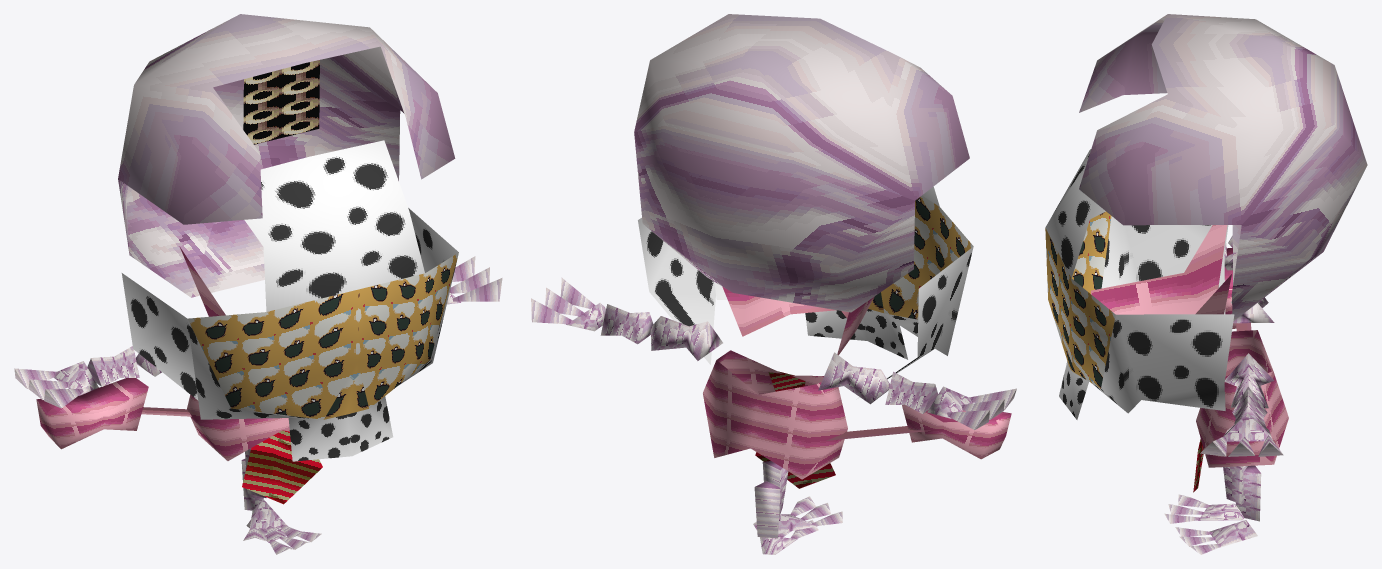
File: npc2004.gltf
3 renders of one model, left to right at view 1: azimuth 30°, elevation 25°; view 2: azimuth 150°, elevation 25°; view 3: azimuth 270°, elevation 25°, orthographic.
Parts seen in each view (by area): view 1: npc2004; view 2: npc2004; view 3: npc2004.
Part boxes in pixels (x1,y1,x2,y2): npc2004: (14,14,502,554); npc2004: (531,14,1016,554); npc2004: (1045,14,1367,554).
Bounding box in the file's own units: 1.62 × 1.68 × 0.9993.
Materials: 6 (6 with a texture image).
